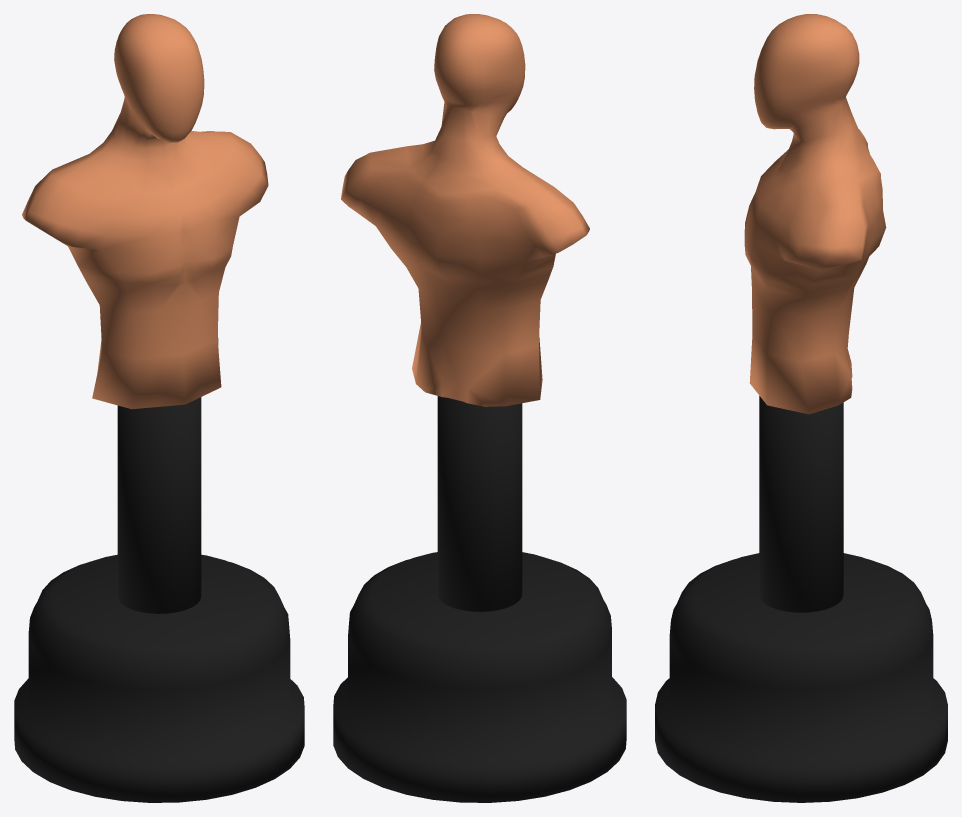
The model's file is Dummy_BOB.fbx.
3 views of the same model, side by side, from view 1: azimuth 30°, elevation 25°; view 2: azimuth 150°, elevation 25°; view 3: azimuth 270°, elevation 25° (orthographic).
Visible parts, largest first — view 1: Dummy BOB; view 2: Dummy BOB; view 3: Dummy BOB.
Boxes of the visible parts, x1,y1,x2,y2 form: Dummy BOB: [14, 14, 304, 802]; Dummy BOB: [333, 14, 626, 802]; Dummy BOB: [655, 14, 947, 802].
Size of the model in its own units: 108 by 295 by 108.
